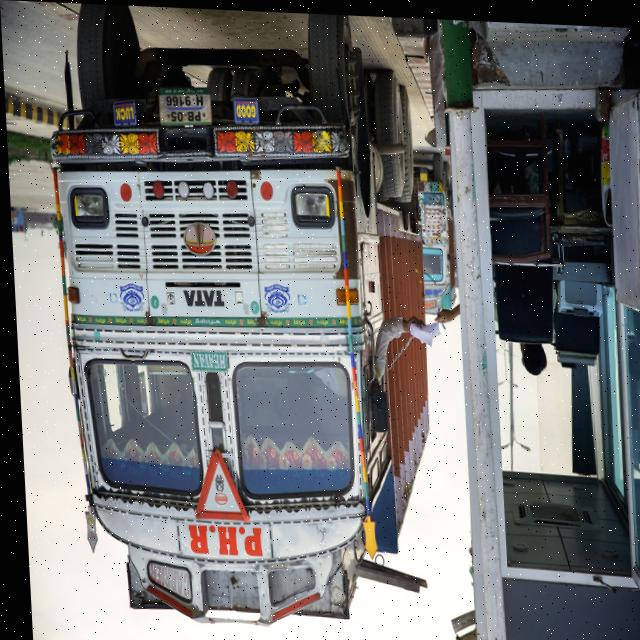plate: (157, 87, 213, 127)
